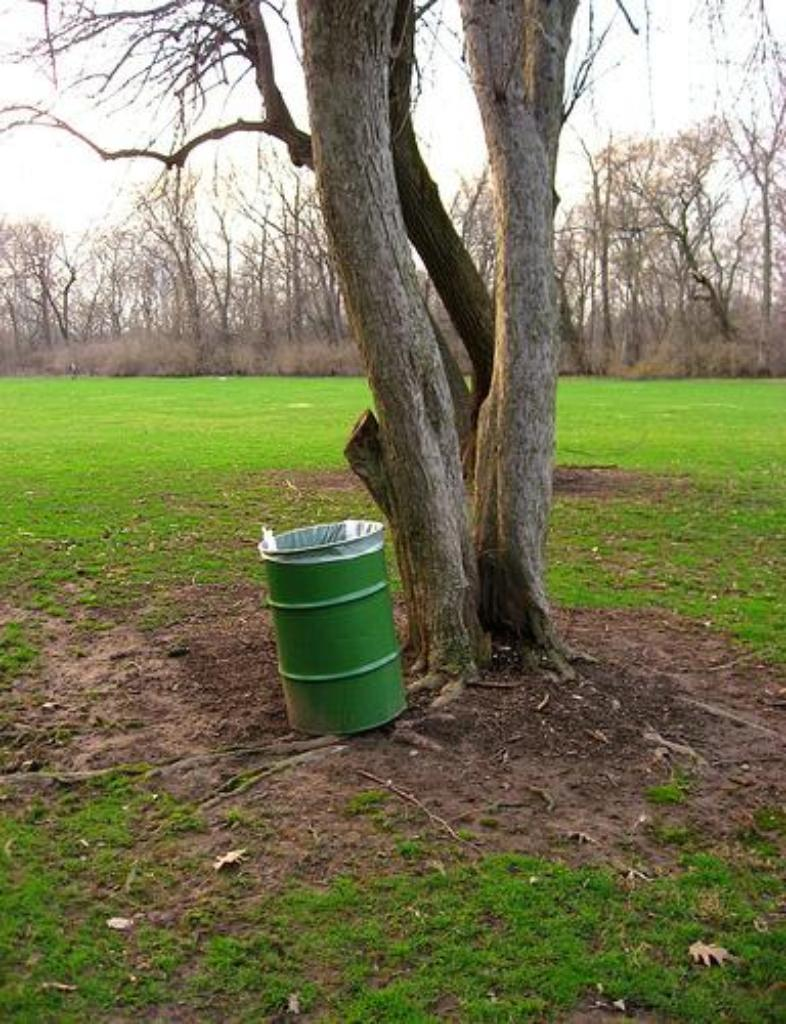dustbin: (257, 510, 429, 746)
